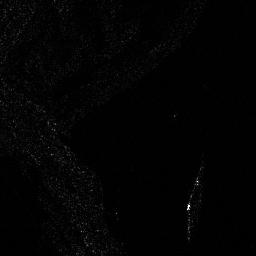ship: (185, 173, 202, 211)
